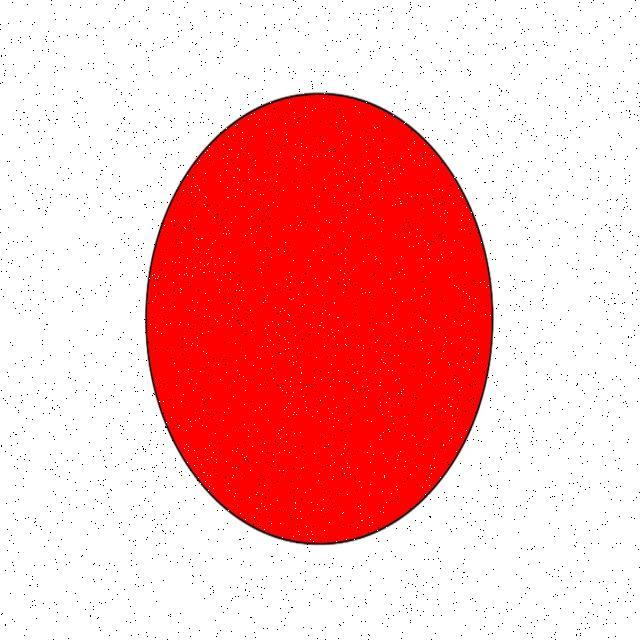Circle: (140, 88, 500, 550)
